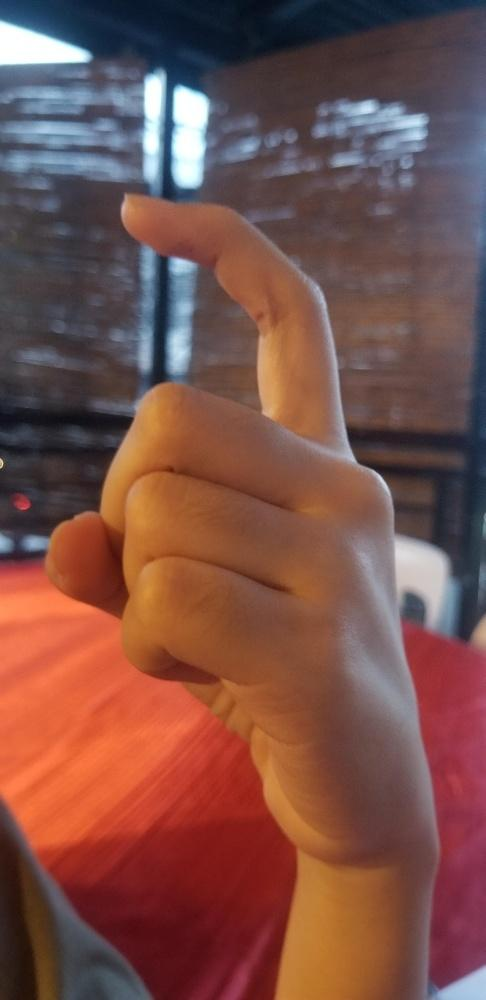x: (41, 191, 441, 862)
